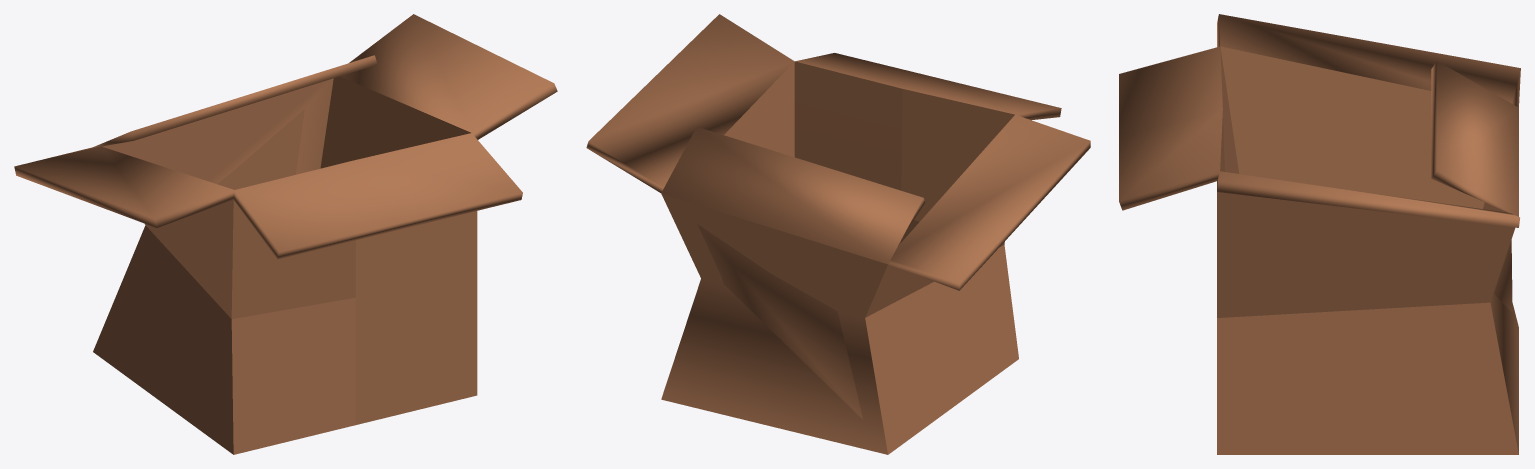
Rendered from Caixa_Arrebentada.fbx.
The picture shows the model from 3 angles, left to right: view 1: azimuth 30°, elevation 25°; view 2: azimuth 150°, elevation 25°; view 3: azimuth 270°, elevation 25°; orthographic projection. The views are drawn at different scales.
Visible parts, largest first — view 1: Cube; view 2: Cube; view 3: Cube.
Part boxes in pixels (x1,y1,x2,y2): Cube: [14, 14, 557, 454]; Cube: [586, 14, 1090, 454]; Cube: [1119, 14, 1520, 454].
Bounding box in the file's own units: 330 × 229 × 266.
